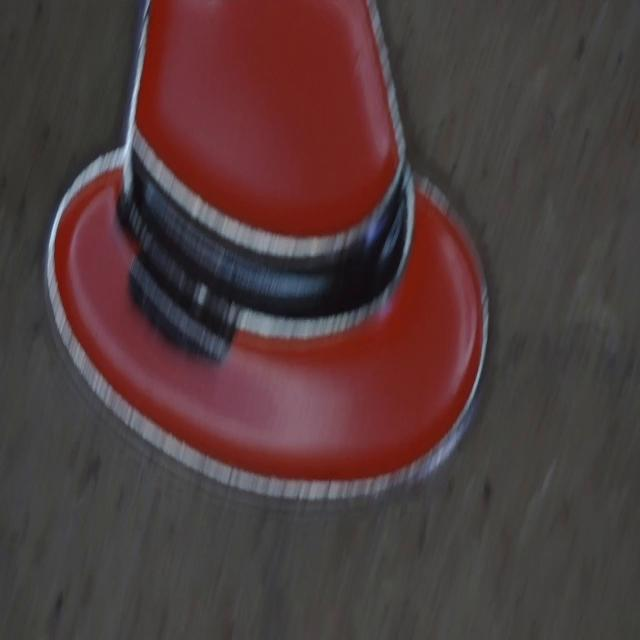Hatband: (131, 131, 411, 317)
Paint_Leak: (130, 256, 230, 360)
RedHatPin: (48, 4, 488, 497)
